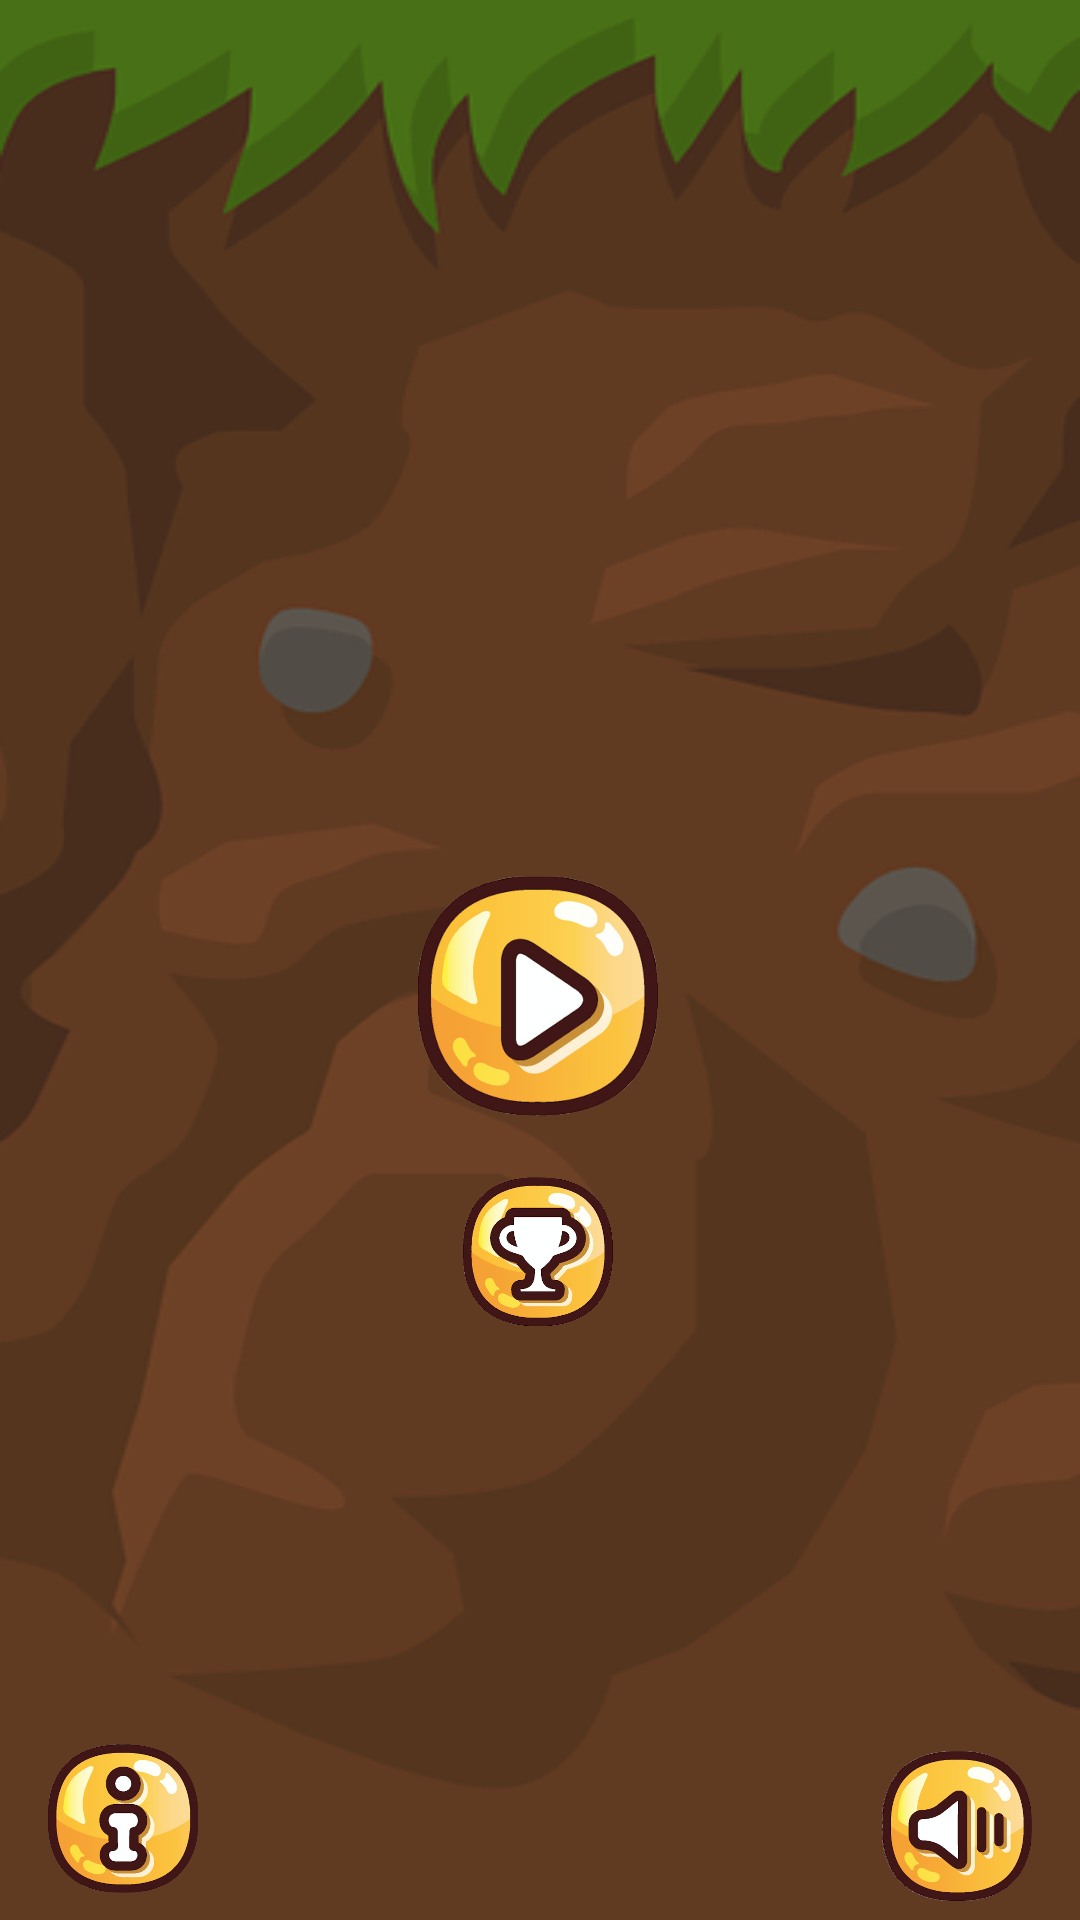

Icons on this 1080 x 1920 Android screen, each with its box as (x1, y1, x2, y2):
info: (48, 1744, 198, 1892)
resume: (418, 877, 658, 1116)
score: (463, 1177, 613, 1326)
